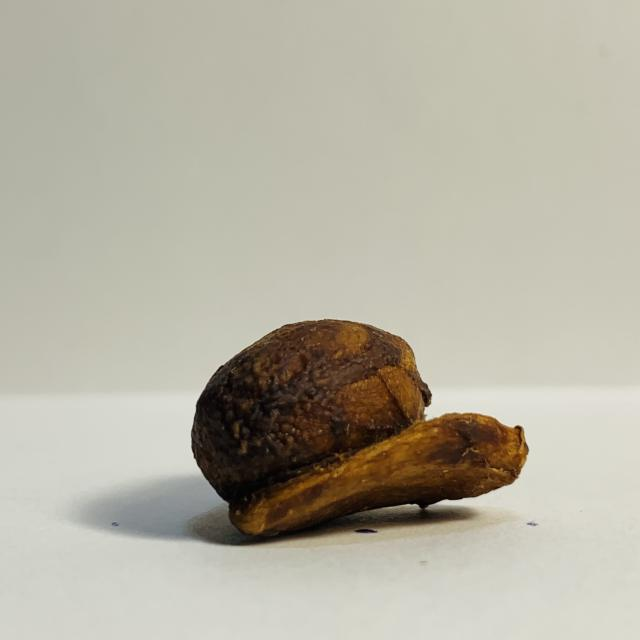Agglomerated_cocoabeans: (42, 278, 562, 577)
